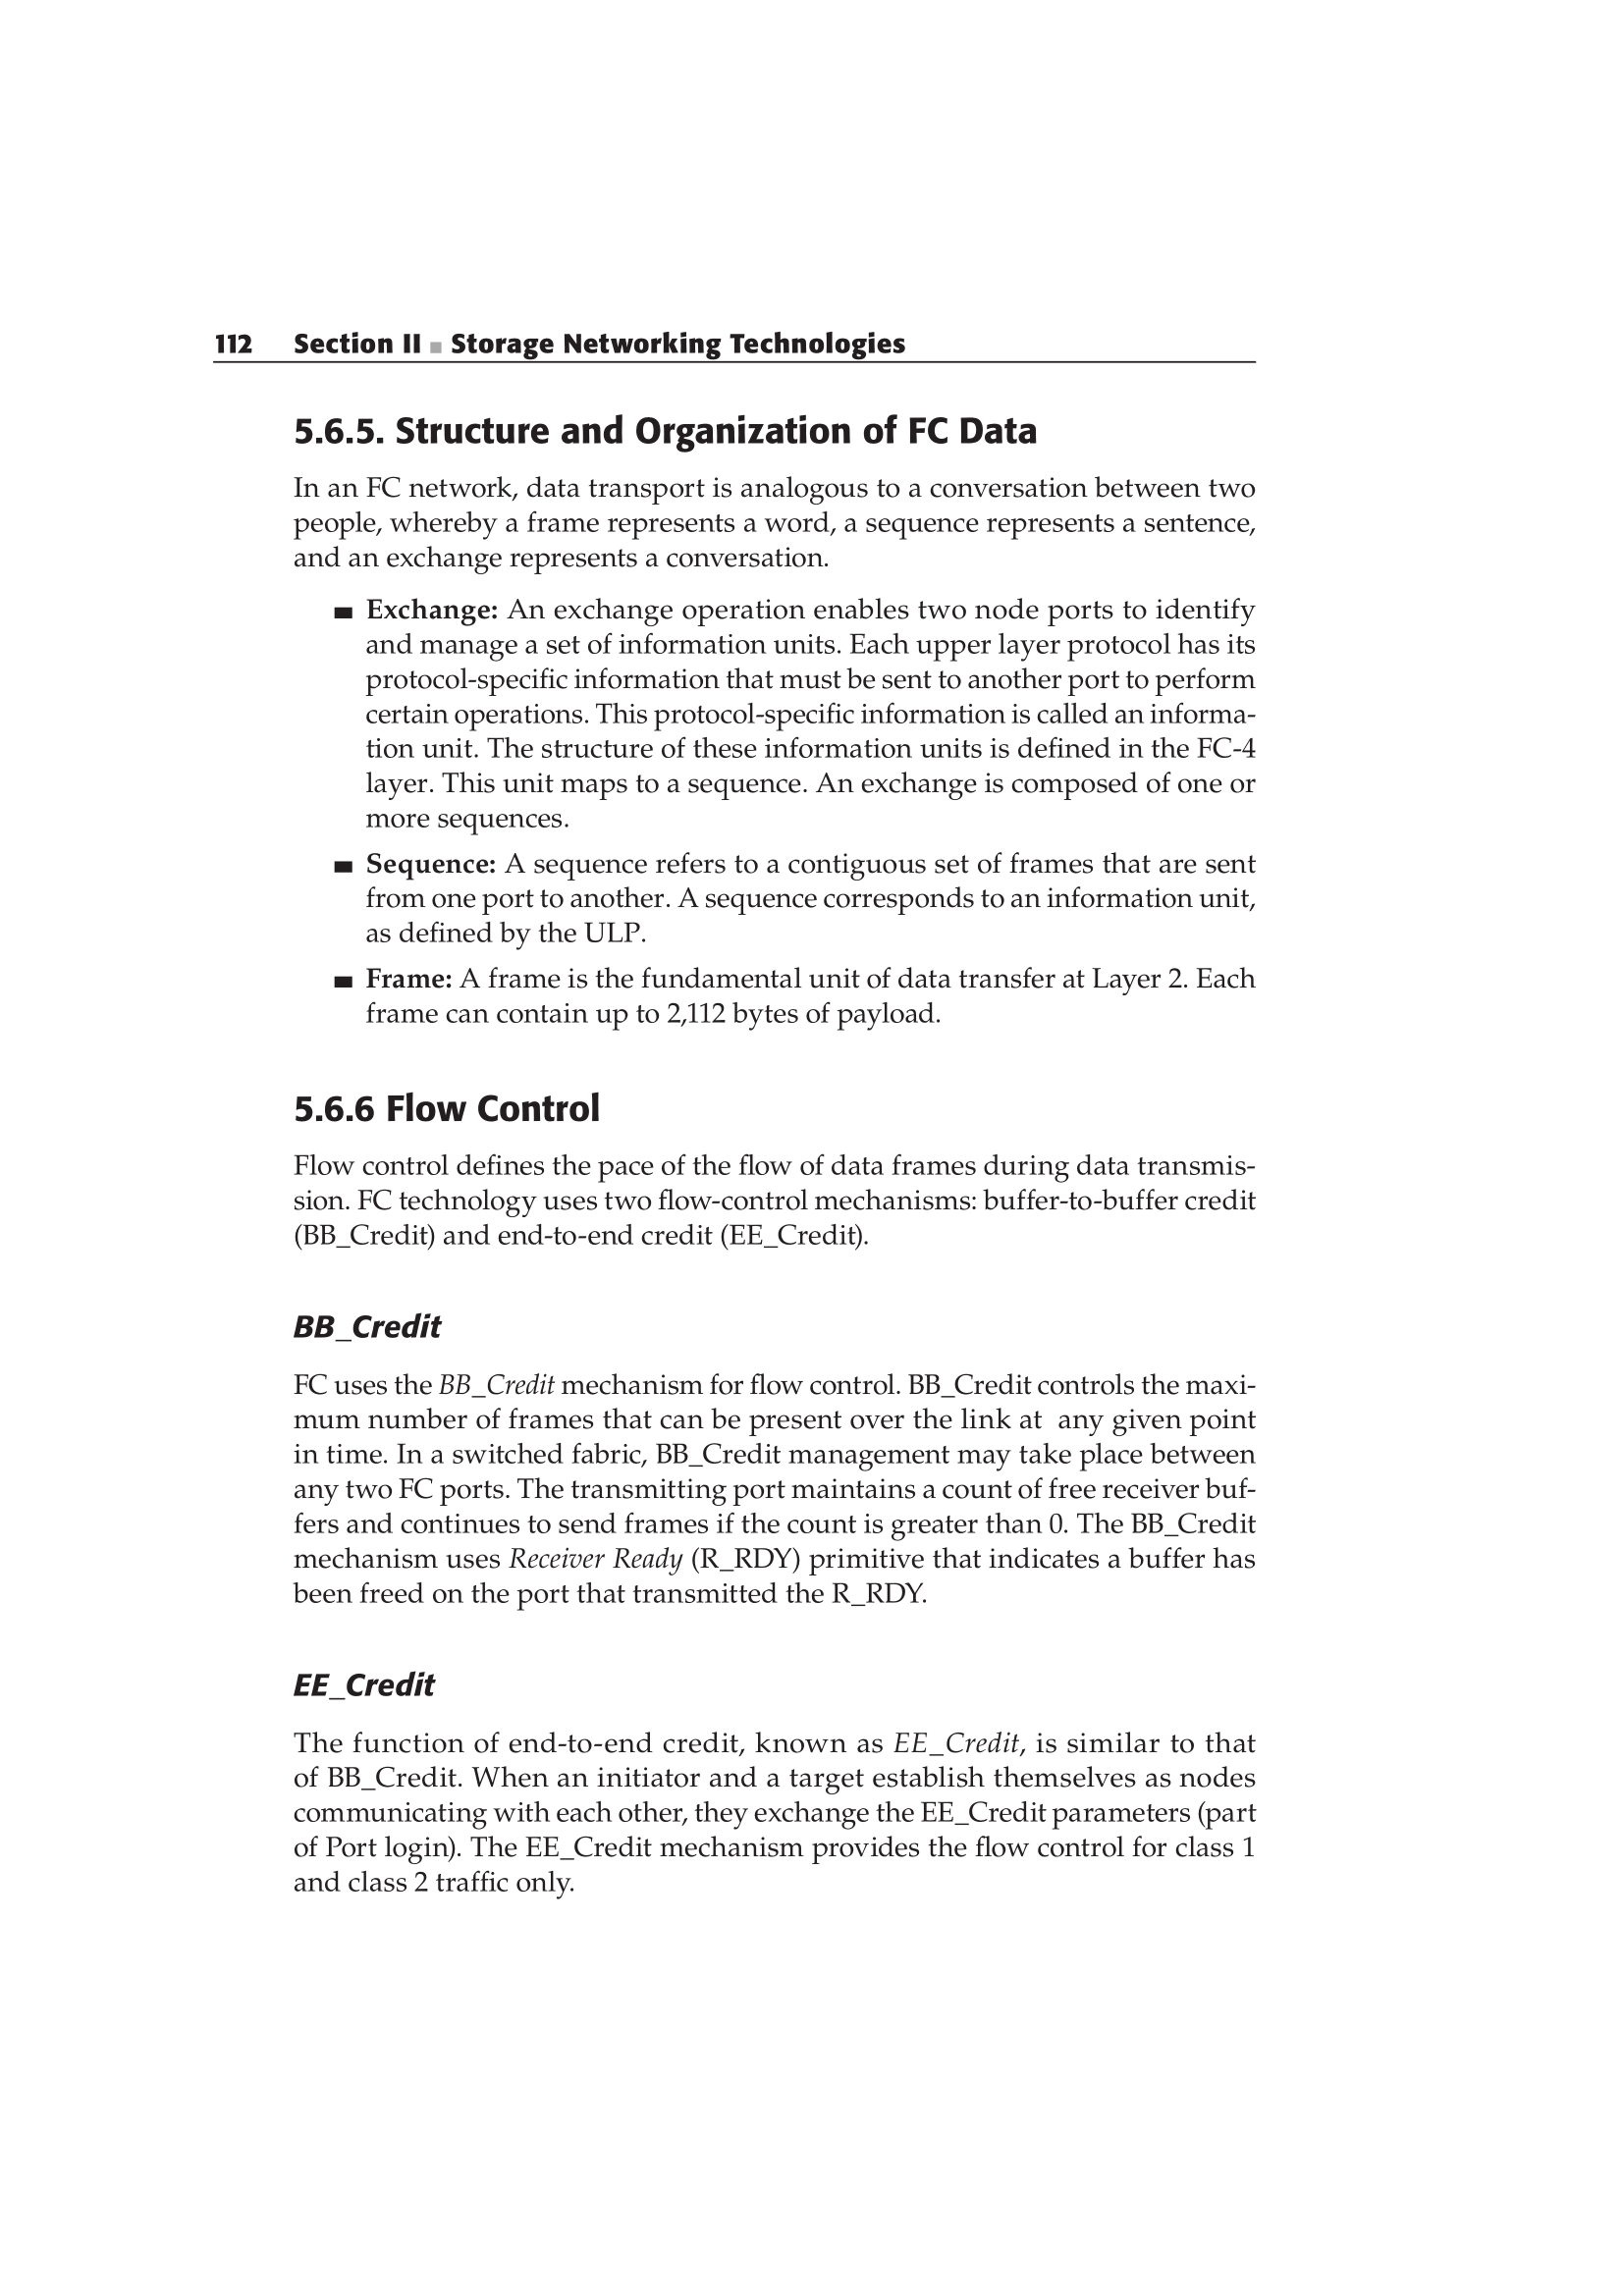Paragraph: (288, 1360, 1265, 1611), (311, 585, 1270, 836), (279, 1731, 1282, 1903), (274, 1146, 1270, 1260), (314, 844, 1270, 953), (288, 470, 1273, 576), (311, 953, 1270, 1041), (237, 402, 1128, 456), (191, 311, 940, 370), (274, 1073, 625, 1136), (288, 1283, 471, 1352), (288, 1652, 462, 1720)
